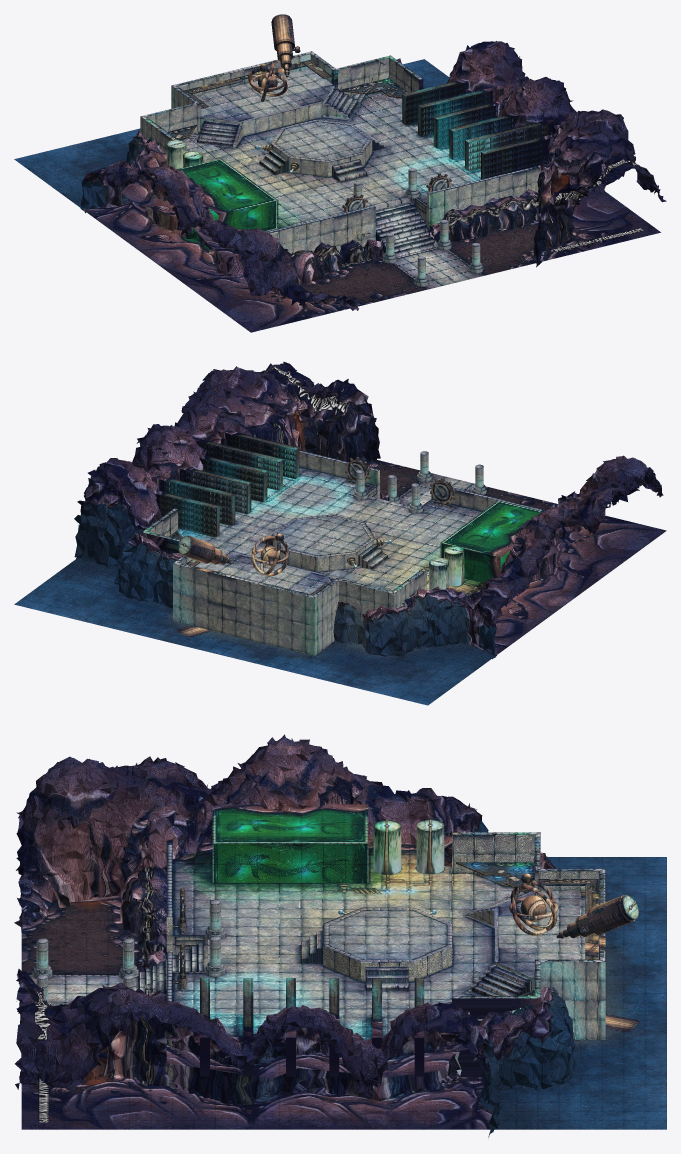
Rendered from ArtificerWorkshop.fbx.
3 renders of one model, top to bottom at view 1: azimuth 30°, elevation 25°; view 2: azimuth 150°, elevation 25°; view 3: azimuth 270°, elevation 25°, orthographic. The views are drawn at different scales.
Parts seen in each view (by area): view 1: Cube.001; view 2: Cube.001; view 3: Cube.001.
Boxes of the visible parts, x1,y1,x2,y2 form: Cube.001: (14,14,666,332); Cube.001: (14,361,666,705); Cube.001: (14,734,666,1137).
Bounding box in the file's own units: 306 × 71.4 × 304.
3 materials, 3 textured.
